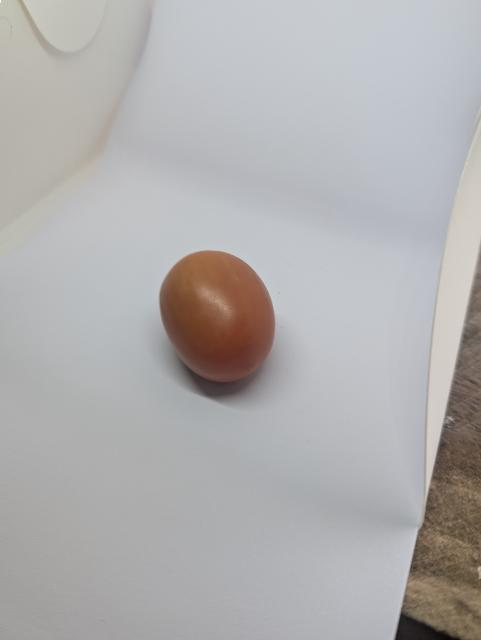turning: (155, 242, 283, 384)
